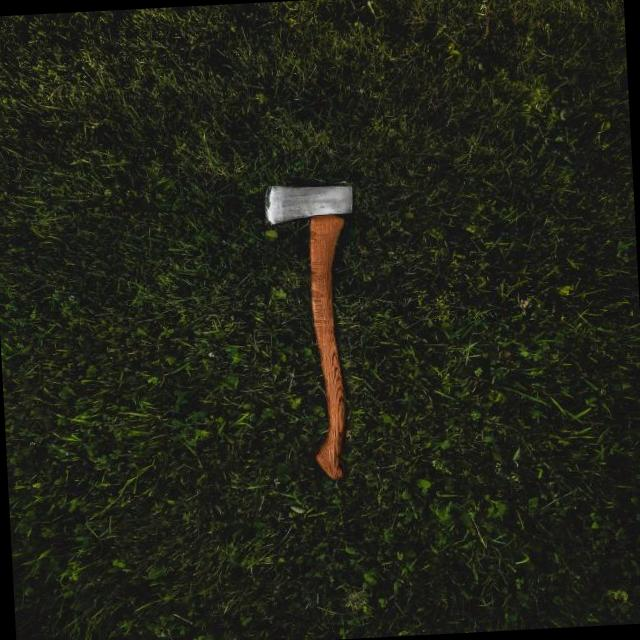Axe: (265, 186, 353, 479)
